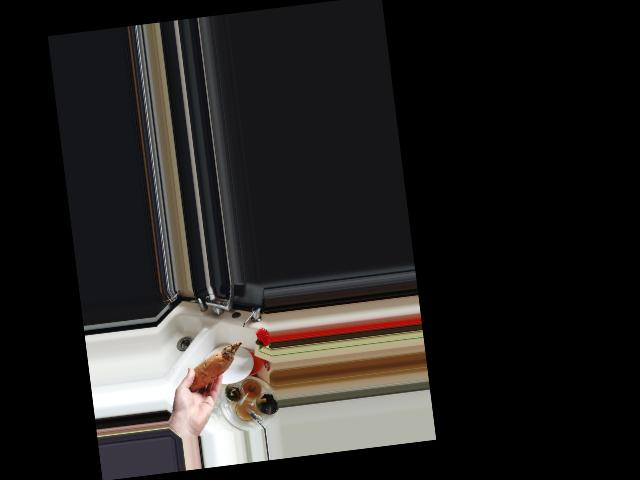sweet_potato: (179, 341, 249, 396)
